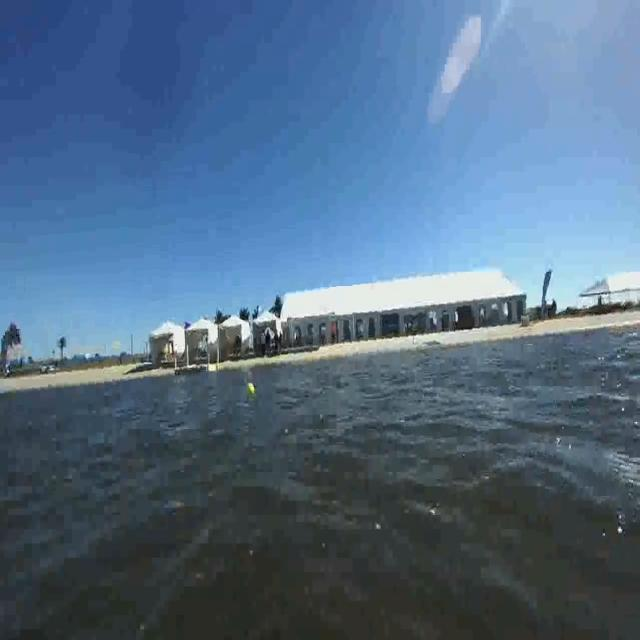yellow-buoy: (248, 382, 255, 395)
